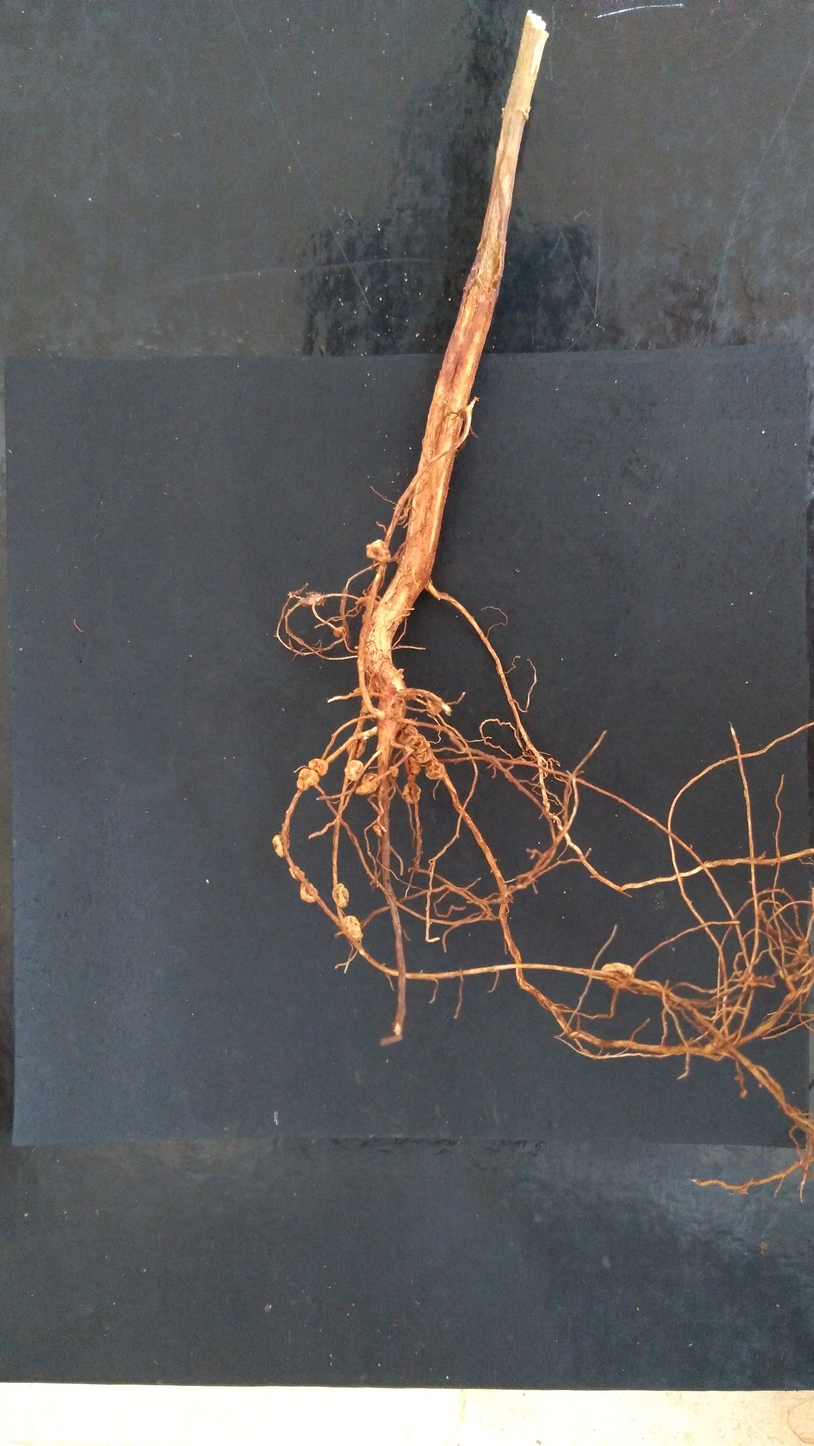nodule: (600, 962, 635, 989), (409, 732, 433, 764), (294, 768, 321, 791), (354, 772, 381, 795), (346, 730, 366, 760), (395, 722, 419, 747), (342, 915, 364, 942), (365, 539, 392, 561), (424, 759, 448, 780), (344, 759, 365, 781), (401, 781, 421, 804), (332, 883, 350, 908), (272, 834, 291, 857), (300, 591, 326, 607), (300, 880, 318, 903), (308, 756, 328, 776), (424, 695, 443, 716), (408, 755, 422, 775), (289, 864, 305, 880), (371, 823, 384, 837), (388, 765, 399, 777), (333, 626, 345, 636), (396, 668, 404, 679)
